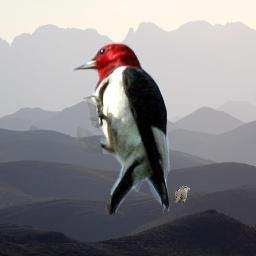Cuckoo: (174, 186, 190, 204)
Woodpecker: (69, 42, 172, 215)
